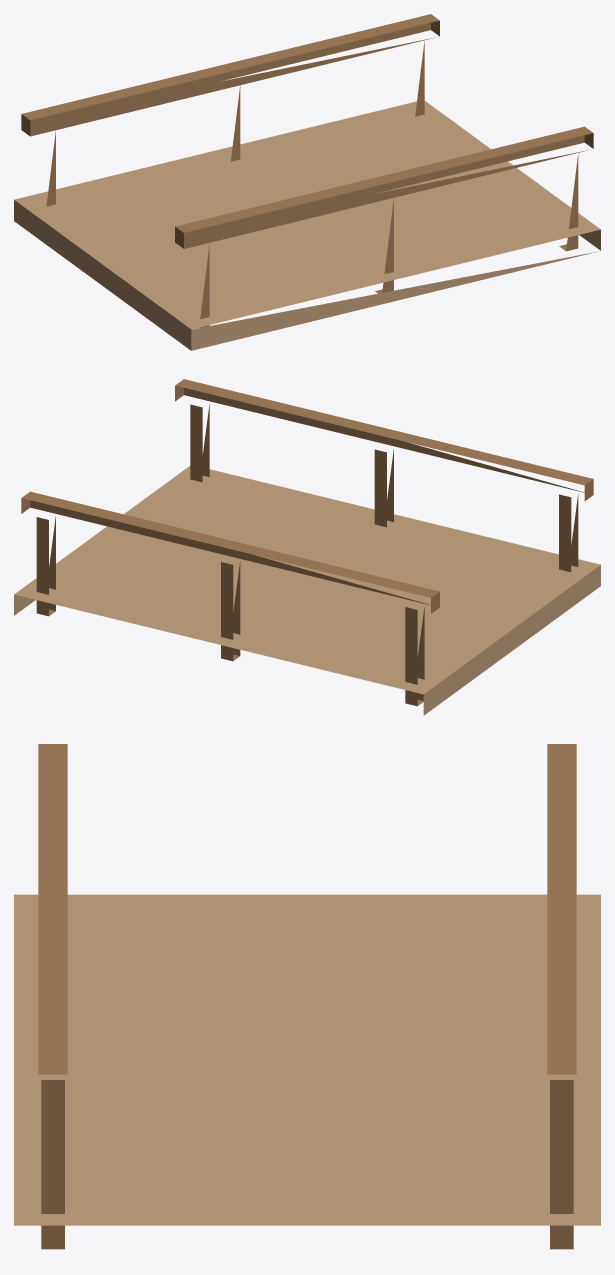
Rendered from ASTX_INFRA_BRIDGE.glb.
The picture shows the model from 3 angles, top to bottom: view 1: azimuth 30°, elevation 25°; view 2: azimuth 150°, elevation 25°; view 3: azimuth 270°, elevation 25°; orthographic projection. The views are drawn at different scales.
Visible parts, largest first — view 1: ASTX_INFRA_BRIDGE_deck, ASTX_INFRA_BRIDGE_rail-1.3, ASTX_INFRA_BRIDGE_rail1.3, ASTX_INFRA_BRIDGE_post1.81.3, ASTX_INFRA_BRIDGE_post01.3; view 2: ASTX_INFRA_BRIDGE_deck, ASTX_INFRA_BRIDGE_rail1.3, ASTX_INFRA_BRIDGE_rail-1.3, ASTX_INFRA_BRIDGE_post0-1.3, ASTX_INFRA_BRIDGE_post-1.8-1.3, ASTX_INFRA_BRIDGE_post1.8-1.3, ASTX_INFRA_BRIDGE_post-1.81.3, ASTX_INFRA_BRIDGE_post1.81.3, ASTX_INFRA_BRIDGE_post01.3; view 3: ASTX_INFRA_BRIDGE_deck, ASTX_INFRA_BRIDGE_rail-1.3, ASTX_INFRA_BRIDGE_rail1.3, ASTX_INFRA_BRIDGE_post1.8-1.3, ASTX_INFRA_BRIDGE_post1.81.3.
Boxes of the visible parts, x1=… form: ASTX_INFRA_BRIDGE_deck: x1=14, y1=101, x2=600, y2=350; ASTX_INFRA_BRIDGE_rail-1.3: x1=21, y1=14, x2=439, y2=136; ASTX_INFRA_BRIDGE_rail1.3: x1=175, y1=126, x2=593, y2=248; ASTX_INFRA_BRIDGE_post1.81.3: x1=559, y1=154, x2=578, y2=251; ASTX_INFRA_BRIDGE_post01.3: x1=375, y1=199, x2=393, y2=293; ASTX_INFRA_BRIDGE_deck: x1=14, y1=466, x2=600, y2=715; ASTX_INFRA_BRIDGE_rail1.3: x1=175, y1=379, x2=593, y2=500; ASTX_INFRA_BRIDGE_rail-1.3: x1=21, y1=491, x2=439, y2=613; ASTX_INFRA_BRIDGE_post0-1.3: x1=221, y1=561, x2=240, y2=661; ASTX_INFRA_BRIDGE_post-1.8-1.3: x1=405, y1=606, x2=424, y2=706; ASTX_INFRA_BRIDGE_post1.8-1.3: x1=36, y1=516, x2=55, y2=616; ASTX_INFRA_BRIDGE_post-1.81.3: x1=559, y1=494, x2=578, y2=572; ASTX_INFRA_BRIDGE_post1.81.3: x1=190, y1=404, x2=209, y2=482; ASTX_INFRA_BRIDGE_post01.3: x1=374, y1=449, x2=393, y2=527; ASTX_INFRA_BRIDGE_deck: x1=14, y1=894, x2=600, y2=1225; ASTX_INFRA_BRIDGE_rail-1.3: x1=547, y1=744, x2=576, y2=1074; ASTX_INFRA_BRIDGE_rail1.3: x1=38, y1=744, x2=67, y2=1074; ASTX_INFRA_BRIDGE_post1.8-1.3: x1=550, y1=1080, x2=573, y2=1249; ASTX_INFRA_BRIDGE_post1.81.3: x1=41, y1=1080, x2=64, y2=1249.
Size of the model in its own units: 4 by 1.05 by 3.
